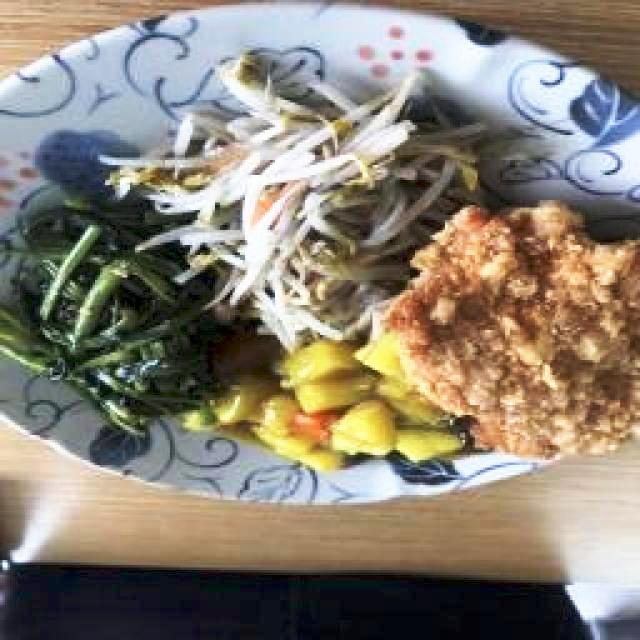curry: (211, 339, 462, 468)
fried_chicken: (386, 203, 640, 459)
mung_bean_sprouts: (121, 52, 478, 335)
water_spinach: (5, 205, 197, 435)
